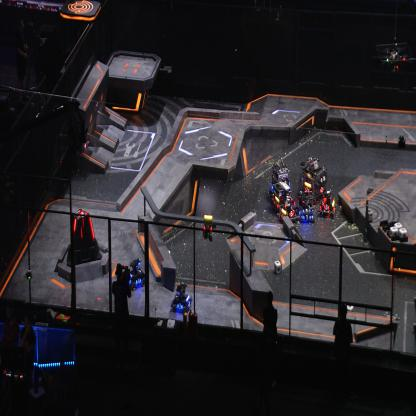car: (300, 157, 328, 201), (268, 160, 292, 200), (270, 180, 294, 213), (170, 282, 192, 314), (294, 191, 315, 224), (277, 195, 298, 224), (318, 189, 338, 219), (127, 258, 144, 290)
